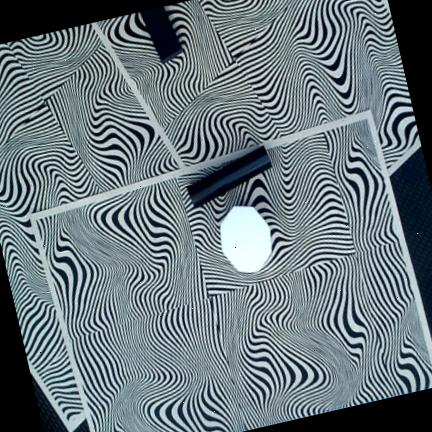Cilindro: (187, 145, 272, 208)
Paralelepipedo: (140, 6, 183, 63)
Prisma_hexagonal: (220, 206, 272, 273)
